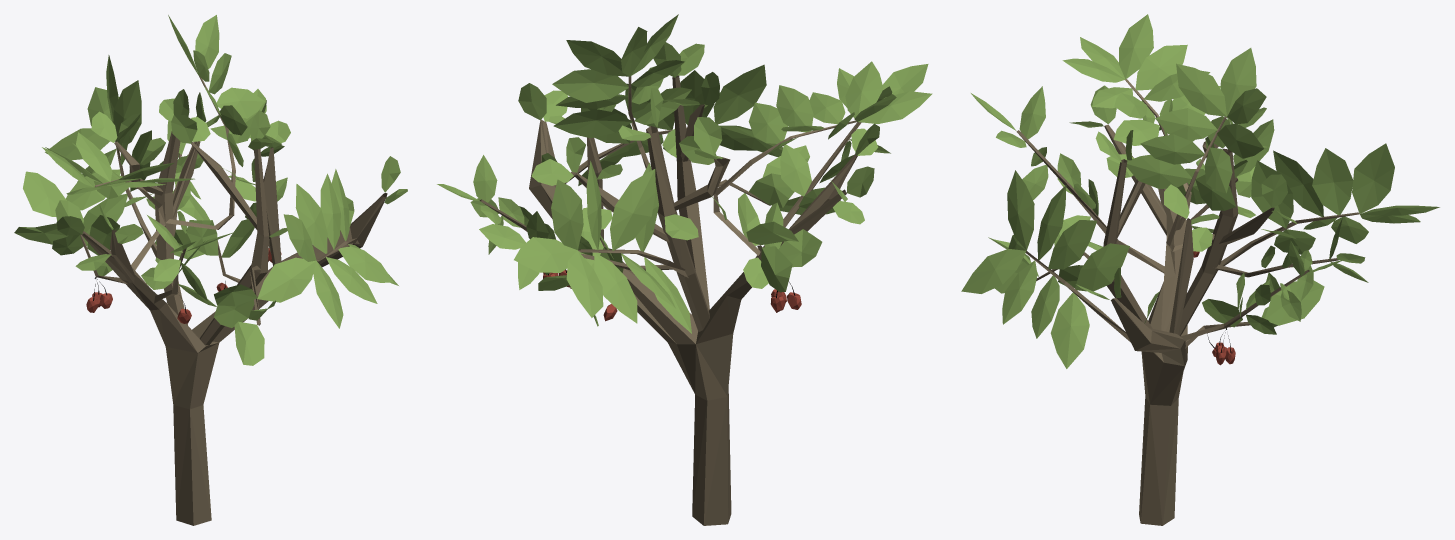
The model's file is Cherry_4_2.fbx.
The picture shows the model from 3 angles, left to right: view 1: azimuth 30°, elevation 25°; view 2: azimuth 150°, elevation 25°; view 3: azimuth 270°, elevation 25°; orthographic projection. The views are drawn at different scales.
Parts seen in each view (by area): view 1: Cherry_4_2; view 2: Cherry_4_2; view 3: Cherry_4_2.
Part boxes in pixels (x1,y1,x2,y2): Cherry_4_2: [14, 15, 407, 525]; Cherry_4_2: [437, 14, 932, 525]; Cherry_4_2: [961, 14, 1439, 525].
Size of the model in its own units: 270 by 345 by 311.
